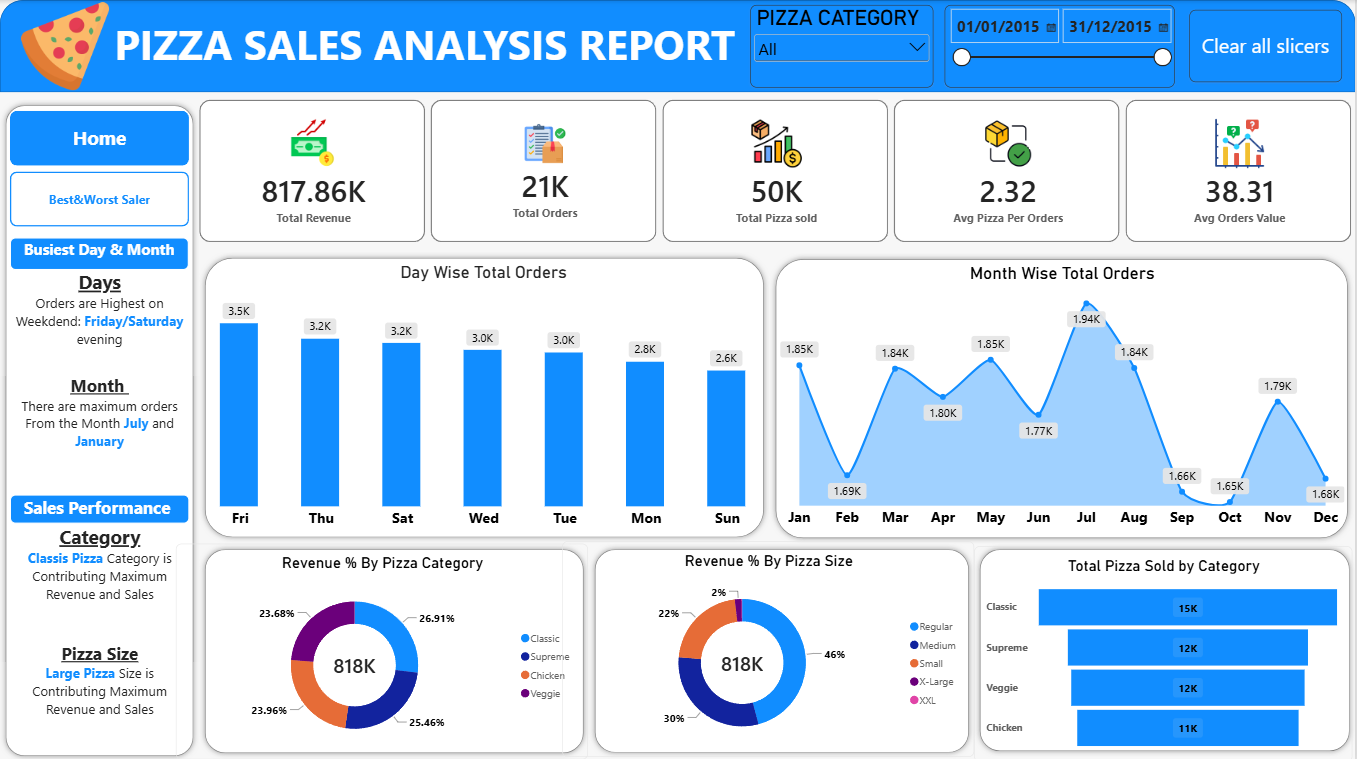

Layout of this report page (visuals, bound fields, positions):
{"tool":"powerbi","page":{"name":"Home","canvas":[1920,1080],"ordinal":0},"visuals":[{"type":"cardVisual","fields":{"Data":["KPI.Total Revenue","KPI.Total Orders","KPI.Total Pizza sold","KPI.Avg Pizza Per Orders","KPI.Avg Orders Value"]},"box":[282.3,141.1,1634.4,202.1],"z":0},{"type":"shape","box":[0,0,1920.2,130.7],"z":1000},{"type":"shape","box":[0,141.1,282,938],"z":2000},{"type":"shape","box":[1090,358.3,826.7,411.7],"z":3000},{"type":"shape","box":[282,358,808,412],"z":4000},{"type":"shape","box":[282.5,770,552.5,305],"z":5000},{"type":"shape","box":[834,770,546,304],"z":6000},{"type":"shape","box":[1380,770,540,302],"z":7000},{"type":"columnChart","title":"Day Wise Total Orders","fields":{"Category":["Calender Table.Day Name"],"Y":["KPI.Total Orders"]},"box":[250,358,872,412],"z":8000},{"type":"areaChart","title":"Month Wise Total Orders","fields":{"Category":["Calender Table.Month name"],"Y":["KPI.Total Orders"]},"box":[1088.3,358.3,831.7,408.3],"z":9000},{"type":"donutChart","title":"Revenue % By Pizza Category","fields":{"Category":["pizza_sales.pizza_category"],"Y":["KPI.Total Revenue"]},"box":[250,770,584,306],"z":10000},{"type":"donutChart","title":"Revenue % By Pizza Size","fields":{"Category":["pizza_sales.pizza_size"],"Y":["KPI.Total Revenue"]},"box":[796,766,584,306],"z":11000},{"type":"funnel","title":"Total Pizza Sold by Category","fields":{"Category":["pizza_sales.pizza_category"],"Y":["KPI.Total Pizza sold"]},"box":[1380,774,536,306],"z":12000},{"type":"image","box":[0,0,184.7,130.7],"z":13000},{"type":"textbox","box":[162,20.9,895.6,102.8],"z":14000},{"type":"slicer","fields":{"Values":["pizza_sales.pizza_category"]},"box":[1062.9,7,259.6,116.7],"z":15000},{"type":"slicer","fields":{"Values":["Calender Table.Date"]},"box":[1338.2,7,325.8,116.7],"z":16000},{"type":"actionButton","box":[1685,13.9,216.1,102.8],"z":17000},{"type":"textbox","box":[14,336,254,46],"z":18000},{"type":"textbox","box":[13.9,700.5,254.4,41.8],"z":19000},{"type":"textbox","box":[13.9,381.6,254.4,304.9],"z":20000},{"type":"textbox","box":[13.3,741.7,255,330],"z":21000},{"type":"pageNavigator","box":[13.9,156.8,254.4,165.5],"z":22000}]}

Visuals, with their boxes in screenshot pixels (x1, y1, x2, y2), scaled from the page's 1920x1080 canvas onto the 1357x759 screenshot:
cardVisual - KPI.Total Revenue x KPI.Total Orders: pyautogui.locateOnScreen(200, 99, 1355, 241)
shape: pyautogui.locateOnScreen(0, 0, 1356, 92)
shape: pyautogui.locateOnScreen(0, 99, 199, 758)
shape: pyautogui.locateOnScreen(770, 252, 1355, 541)
shape: pyautogui.locateOnScreen(199, 252, 770, 541)
shape: pyautogui.locateOnScreen(200, 541, 590, 755)
shape: pyautogui.locateOnScreen(589, 541, 975, 755)
shape: pyautogui.locateOnScreen(975, 541, 1356, 753)
"Day Wise Total Orders" columnChart: pyautogui.locateOnScreen(177, 252, 793, 541)
"Month Wise Total Orders" areaChart: pyautogui.locateOnScreen(769, 252, 1356, 539)
"Revenue % By Pizza Category" donutChart: pyautogui.locateOnScreen(177, 541, 589, 756)
"Revenue % By Pizza Size" donutChart: pyautogui.locateOnScreen(563, 538, 975, 753)
"Total Pizza Sold by Category" funnel: pyautogui.locateOnScreen(975, 544, 1354, 758)
image: pyautogui.locateOnScreen(0, 0, 131, 92)
textbox: pyautogui.locateOnScreen(114, 15, 747, 87)
slicer - pizza_sales.pizza_category: pyautogui.locateOnScreen(751, 5, 935, 87)
slicer - Calender Table.Date: pyautogui.locateOnScreen(946, 5, 1176, 87)
actionButton: pyautogui.locateOnScreen(1191, 10, 1344, 82)
textbox: pyautogui.locateOnScreen(10, 236, 189, 268)
textbox: pyautogui.locateOnScreen(10, 492, 190, 522)
textbox: pyautogui.locateOnScreen(10, 268, 190, 482)
textbox: pyautogui.locateOnScreen(9, 521, 190, 753)
pageNavigator: pyautogui.locateOnScreen(10, 110, 190, 227)
